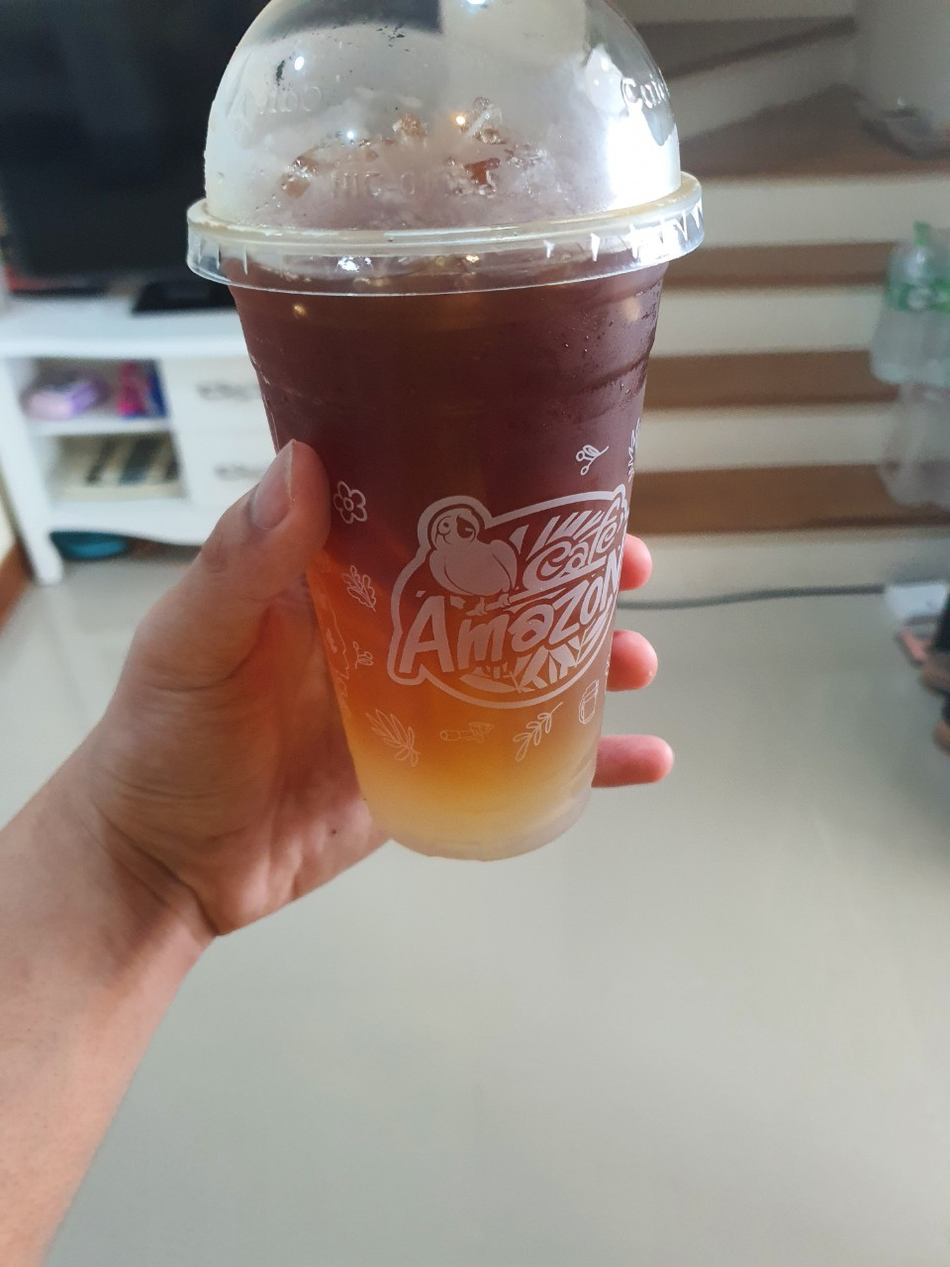plastic: (163, 0, 731, 884)
